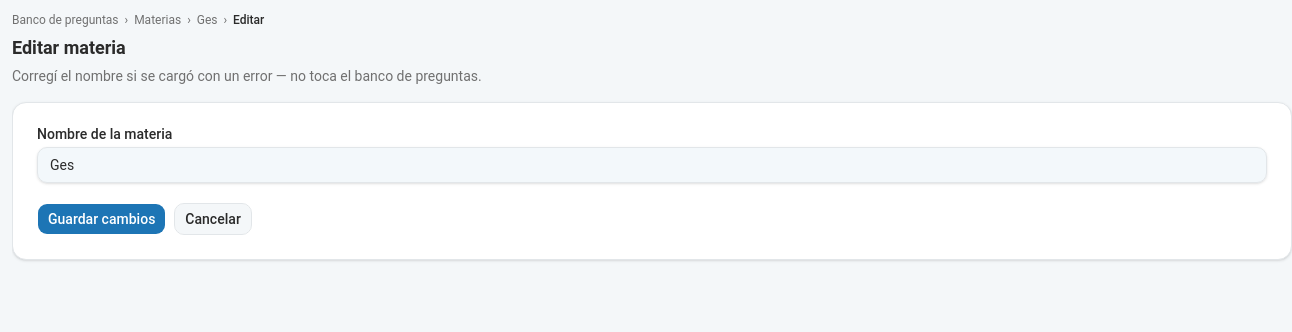
Test case: EditarMateria › muestra un error si el nombre ya pertenece a otra materia (409)
Replace the text in the field labelled "Nombre de la materia" with "Ingeniería de Software" at point(652, 165), box [37,147,1267,183]
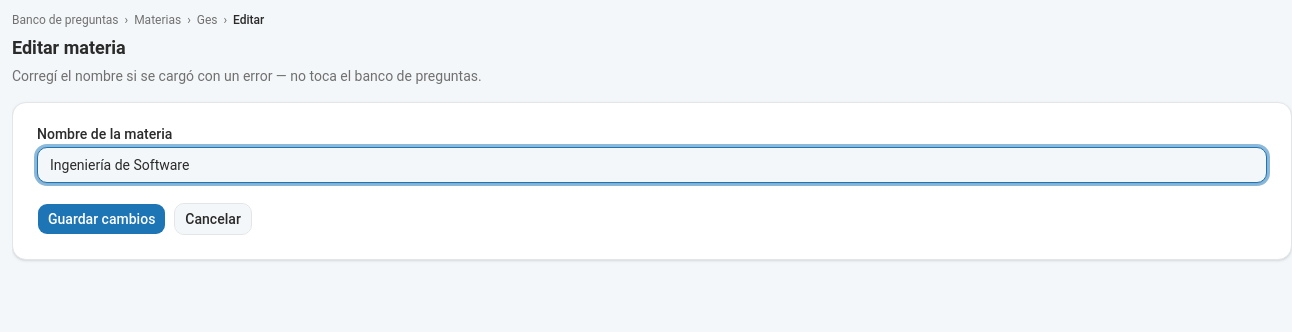
Click the button "Guardar cambios" at point(102, 219), box [37,203,166,235]
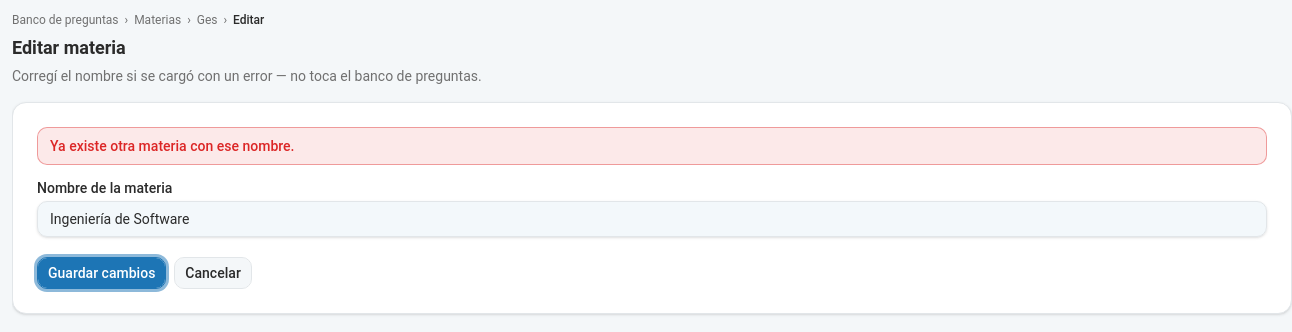
Result: the message shows "Ya existe otra materia" at [50,138,294,154]
